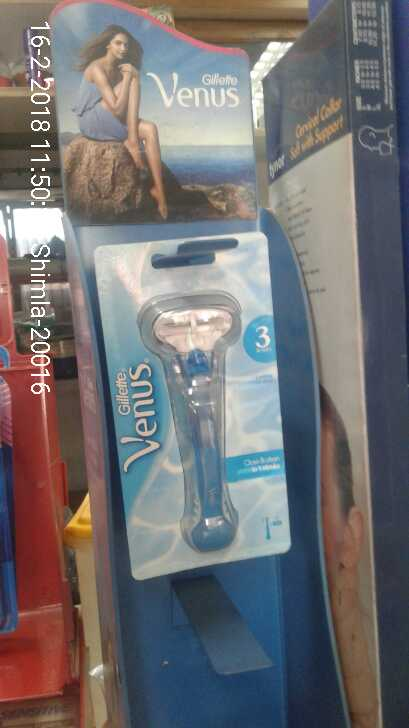venus: (96, 246, 293, 568)
